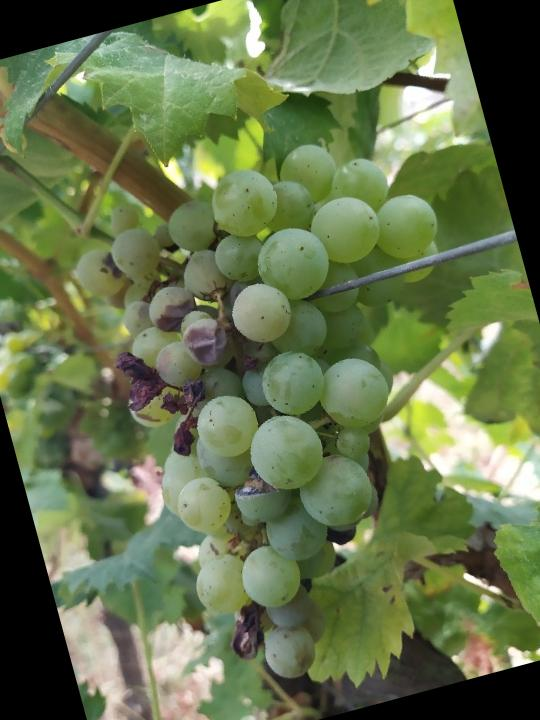grape: (68, 115, 540, 708)
